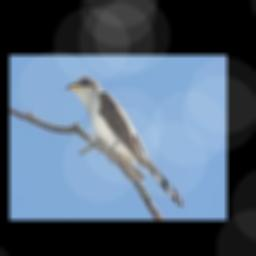Cuckoo: (66, 76, 183, 208)
